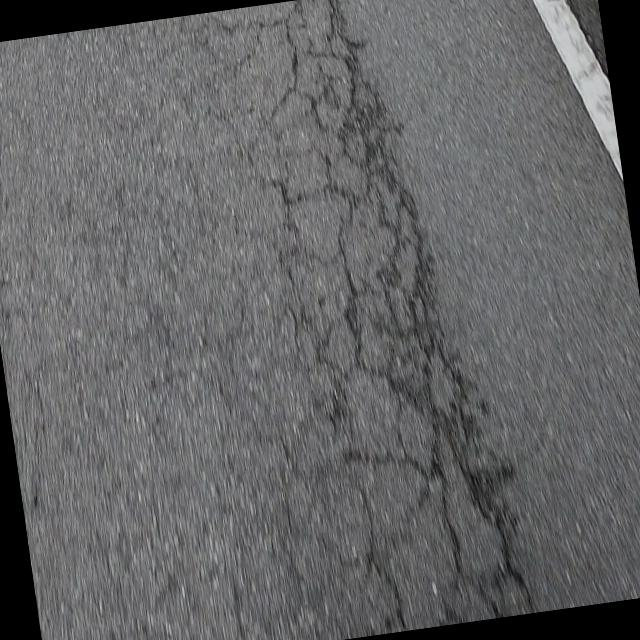Retak-Buaya: (201, 0, 536, 631)
